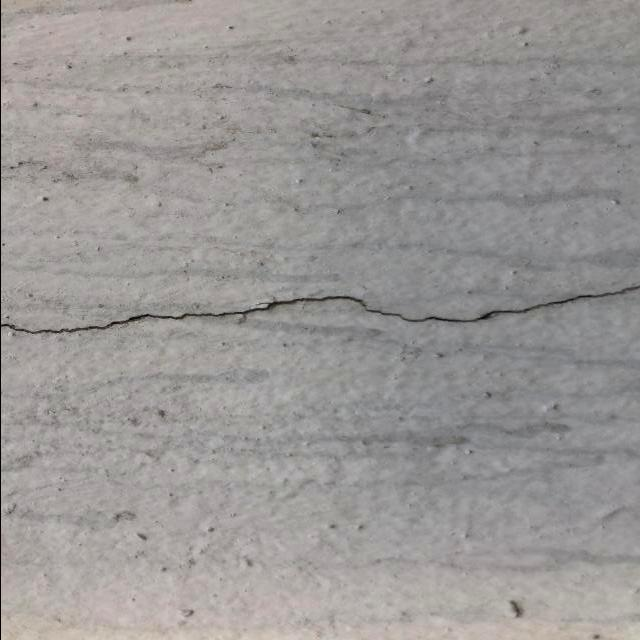SurfaceCrack: (1, 244, 640, 380)
